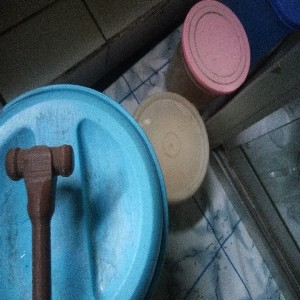palu: (3, 143, 75, 300)
